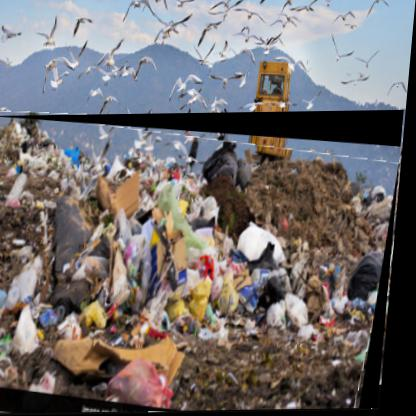Garbage: (1, 112, 408, 416)
